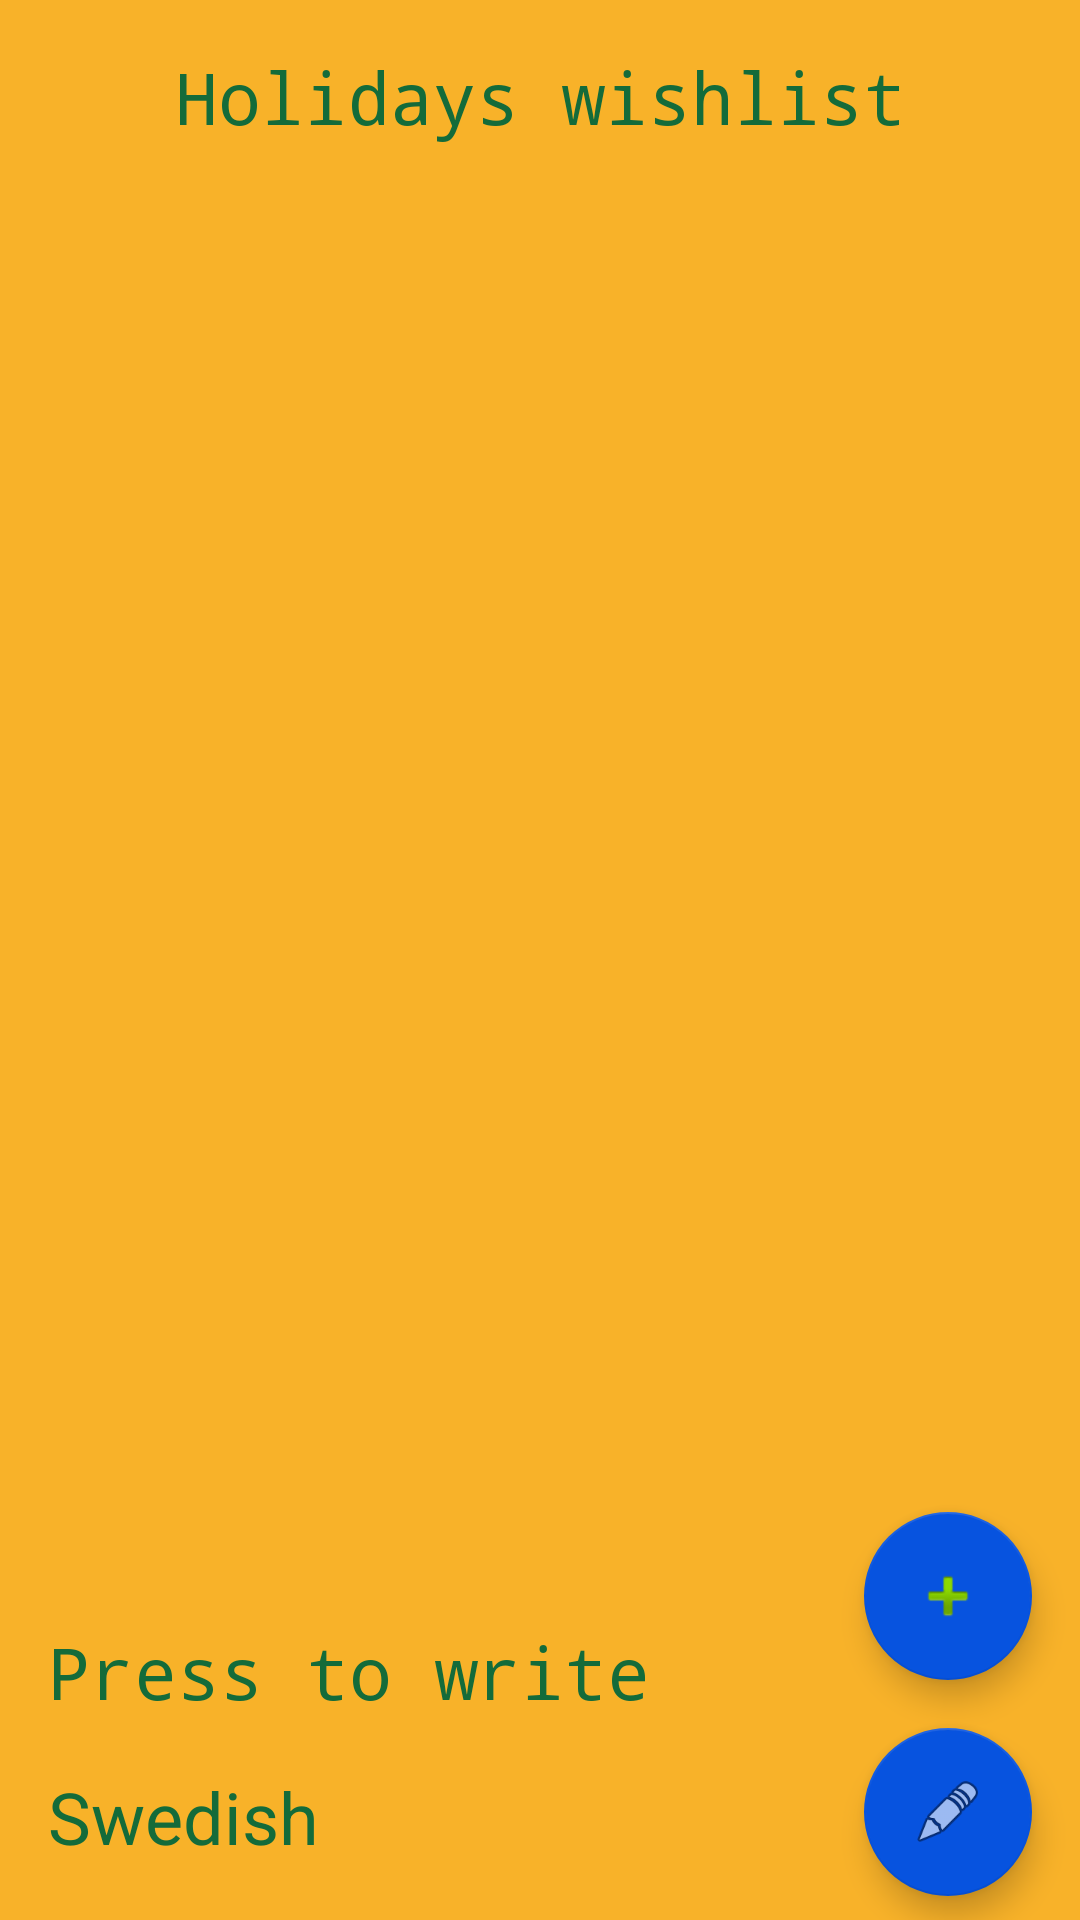

Point at icon controls on the screen. Image size 1080 x 1920, points as [x,y].
add: [948,1596]
edit: [948,1812]
